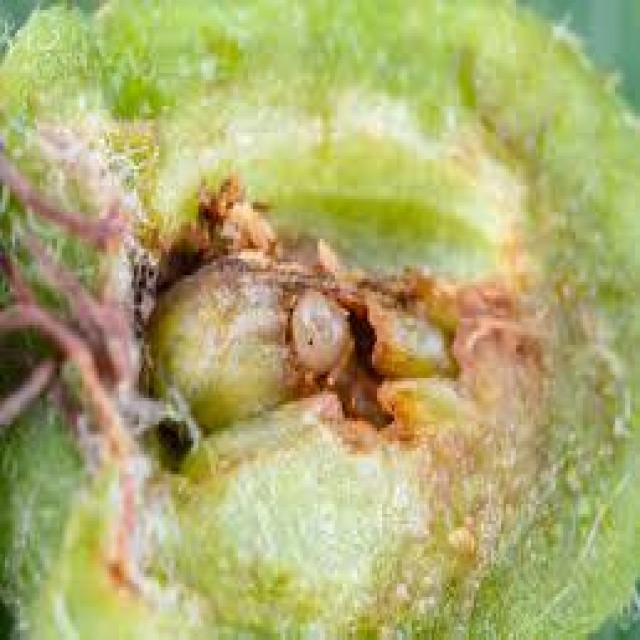Olive Fruit Fly: (0, 0, 638, 637)
